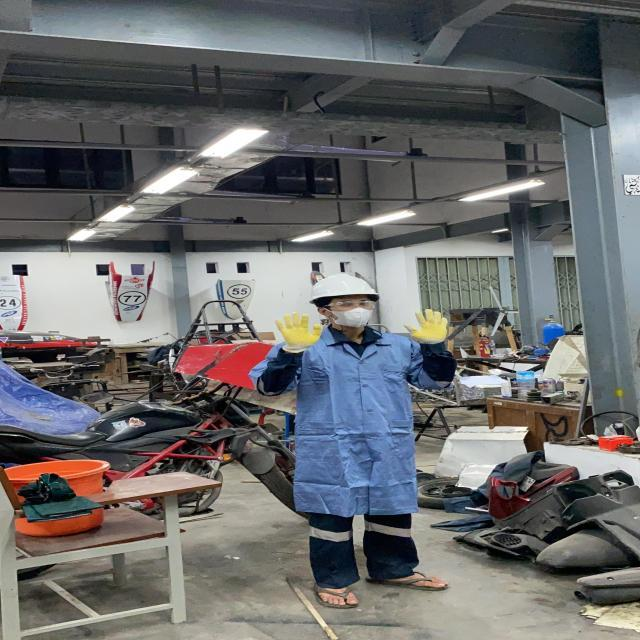glasses: (319, 298, 378, 310)
